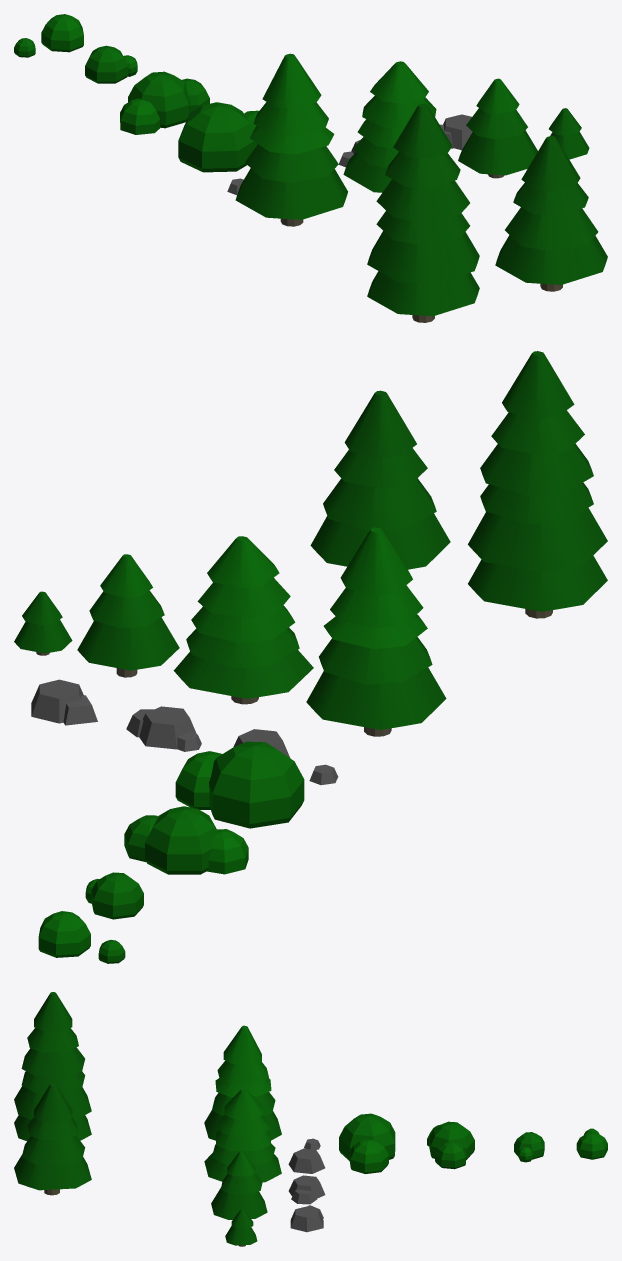
Rendered from Organic Models V2 Export.fbx.
The picture shows the model from 3 angles, top to bottom: view 1: azimuth 30°, elevation 25°; view 2: azimuth 150°, elevation 25°; view 3: azimuth 270°, elevation 25°; orthographic projection. The views are drawn at different scales.
Parts seen in each view (by area): view 1: pasted__group10_pasted__pasted__group6_pasted__pasted__paste, group10_pasted__group4_pasted__pasted__group2_pasted__pasted, group50_pasted__group47_pasted__pasted__group10_pasted__past, pasted__group3_pasted__pasted__group2_pasted__pasted__pasted, group9_pasted__group7_pasted__pasted__group6_pasted__pasted_, pSphere3, group30_pasted__pSphere2, group33_pasted__group32_pasted__pasted__group30_pasted__past, pasted__pasted__pasted__pSphere2, pasted__group9_pasted__pasted__group4_pasted__pasted__pasted, group21_pasted__pSphere1; view 2: pasted__group10_pasted__pasted__group6_pasted__pasted__paste, group10_pasted__group4_pasted__pasted__group2_pasted__pasted, pasted__group3_pasted__pasted__group2_pasted__pasted__pasted, group50_pasted__group47_pasted__pasted__group10_pasted__past, pSphere3, group9_pasted__group7_pasted__pasted__group6_pasted__pasted_, group30_pasted__pSphere2, pasted__pasted__pasted__pasted__pSphere1, group21_pasted__pSphere1, pasted__group9_pasted__pasted__group4_pasted__pasted__pasted, group33_pasted__group32_pasted__pasted__group30_pasted__past, pasted__pasted__pasted__pSphere2; view 3: pasted__group10_pasted__pasted__group6_pasted__pasted__paste, group50_pasted__group47_pasted__pasted__group10_pasted__past, pasted__group3_pasted__pasted__group2_pasted__pasted__pasted, group10_pasted__group4_pasted__pasted__group2_pasted__pasted, pSphere3, group9_pasted__group7_pasted__pasted__group6_pasted__pasted_, group30_pasted__pSphere2, pasted__pasted__pasted__pasted__pSphere1, pasted__group9_pasted__pasted__group4_pasted__pasted__pasted, group33_pasted__group32_pasted__pasted__group30_pasted__past, group21_pasted__pSphere1, pasted__pasted__pasted__pSphere2 (+1 smaller).
Part boxes in pixels (x1=…): pasted__group10_pasted__pasted__group6_pasted__pasted__paste: x1=367, y1=103, x2=479, y2=322; group10_pasted__group4_pasted__pasted__group2_pasted__pasted: x1=235, y1=53, x2=347, y2=226; group50_pasted__group47_pasted__pasted__group10_pasted__past: x1=495, y1=136, x2=607, y2=291; pasted__group3_pasted__pasted__group2_pasted__pasted__pasted: x1=343, y1=61, x2=436, y2=192; group9_pasted__group7_pasted__pasted__group6_pasted__pasted_: x1=458, y1=78, x2=537, y2=178; pSphere3: x1=178, y1=102, x2=258, y2=172; group30_pasted__pSphere2: x1=120, y1=71, x2=209, y2=134; group33_pasted__group32_pasted__pasted__group30_pasted__past: x1=85, y1=45, x2=137, y2=83; pasted__pasted__pasted__pSphere2: x1=41, y1=14, x2=83, y2=52; pasted__group9_pasted__pasted__group4_pasted__pasted__pasted: x1=549, y1=108, x2=589, y2=159; group21_pasted__pSphere1: x1=440, y1=114, x2=472, y2=150; pasted__group10_pasted__pasted__group6_pasted__pasted__paste: x1=468, y1=351, x2=607, y2=618; group10_pasted__group4_pasted__pasted__group2_pasted__pasted: x1=306, y1=527, x2=446, y2=736; pasted__group3_pasted__pasted__group2_pasted__pasted__pasted: x1=173, y1=536, x2=313, y2=704; group50_pasted__group47_pasted__pasted__group10_pasted__past: x1=310, y1=390, x2=450, y2=569; pSphere3: x1=175, y1=741, x2=304, y2=828; group9_pasted__group7_pasted__pasted__group6_pasted__pasted_: x1=77, y1=554, x2=179, y2=677; group30_pasted__pSphere2: x1=124, y1=806, x2=248, y2=874; pasted__pasted__pasted__pasted__pSphere1: x1=126, y1=706, x2=201, y2=751; group21_pasted__pSphere1: x1=31, y1=679, x2=97, y2=725; pasted__group9_pasted__pasted__group4_pasted__pasted__pasted: x1=14, y1=591, x2=72, y2=655; group33_pasted__group32_pasted__pasted__group30_pasted__past: x1=85, y1=872, x2=143, y2=919; pasted__pasted__pasted__pSphere2: x1=38, y1=911, x2=90, y2=957; pasted__group10_pasted__pasted__group6_pasted__pasted__paste: x1=14, y1=992, x2=91, y2=1140; group50_pasted__group47_pasted__pasted__group10_pasted__past: x1=14, y1=1083, x2=91, y2=1195; pasted__group3_pasted__pasted__group2_pasted__pasted__pasted: x1=204, y1=1089, x2=281, y2=1182; group10_pasted__group4_pasted__pasted__group2_pasted__pasted: x1=204, y1=1025, x2=281, y2=1140; pSphere3: x1=339, y1=1113, x2=395, y2=1173; group9_pasted__group7_pasted__pasted__group6_pasted__pasted_: x1=211, y1=1151, x2=267, y2=1219; group30_pasted__pSphere2: x1=427, y1=1121, x2=474, y2=1169; pasted__pasted__pasted__pasted__pSphere1: x1=288, y1=1175, x2=325, y2=1204; pasted__group9_pasted__pasted__group4_pasted__pasted__pasted: x1=225, y1=1209, x2=257, y2=1246; group33_pasted__group32_pasted__pasted__group30_pasted__past: x1=514, y1=1132, x2=544, y2=1162; group21_pasted__pSphere1: x1=290, y1=1205, x2=323, y2=1232; pasted__pasted__pasted__pSphere2: x1=576, y1=1132, x2=607, y2=1159.
Bounding box in the file's own units: 9.29 × 5.63 × 19.53.
